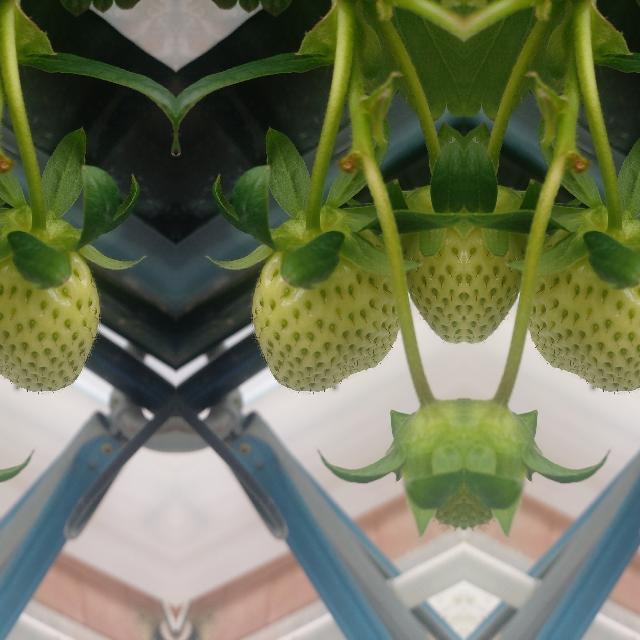Health_25: (251, 251, 399, 391), (527, 251, 640, 391), (0, 251, 99, 391), (395, 214, 463, 350), (463, 214, 531, 350)
